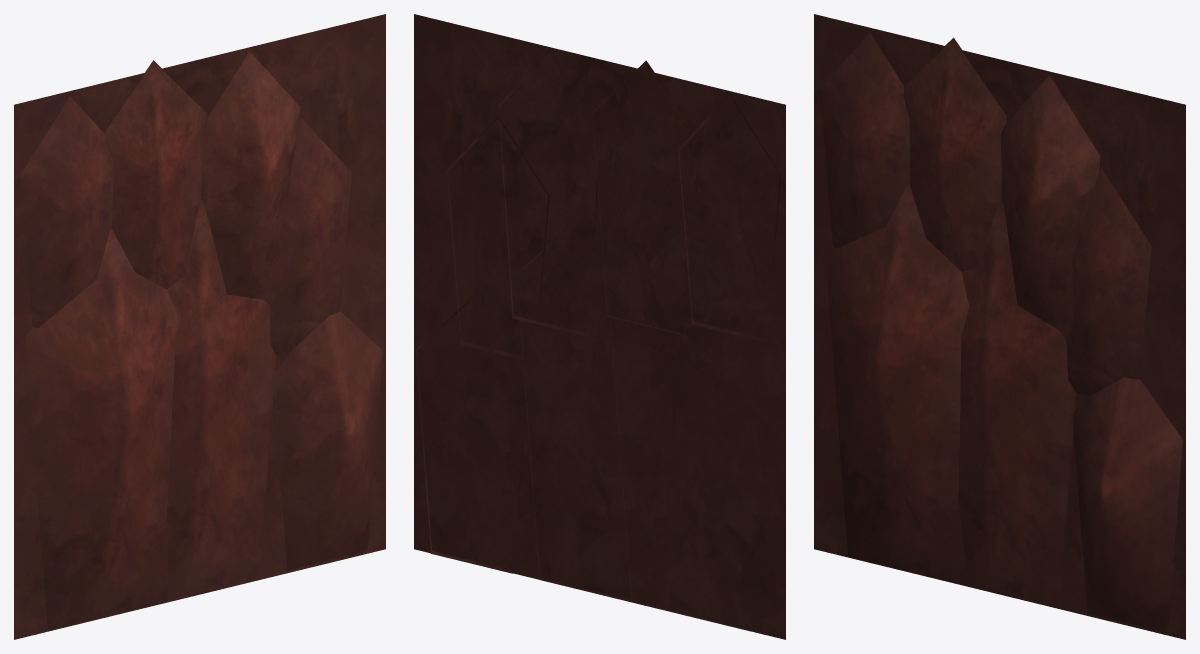
Rendered from lava_wall_straight_04.fbx.
The picture shows the model from 3 angles, left to right: view 1: azimuth 30°, elevation 25°; view 2: azimuth 150°, elevation 25°; view 3: azimuth 330°, elevation 25°; orthographic projection.
Parts seen in each view (by area): view 1: lava_wall_straight_04-0; view 2: lava_wall_straight_04-0; view 3: lava_wall_straight_04-0.
Part boxes in pixels (box(x1,y1,x2,y2)): lava_wall_straight_04-0: box(14, 14, 385, 639); lava_wall_straight_04-0: box(414, 14, 785, 639); lava_wall_straight_04-0: box(814, 14, 1185, 639).
Size of the model in its own units: 4 by 5.61 by 0.5154.
